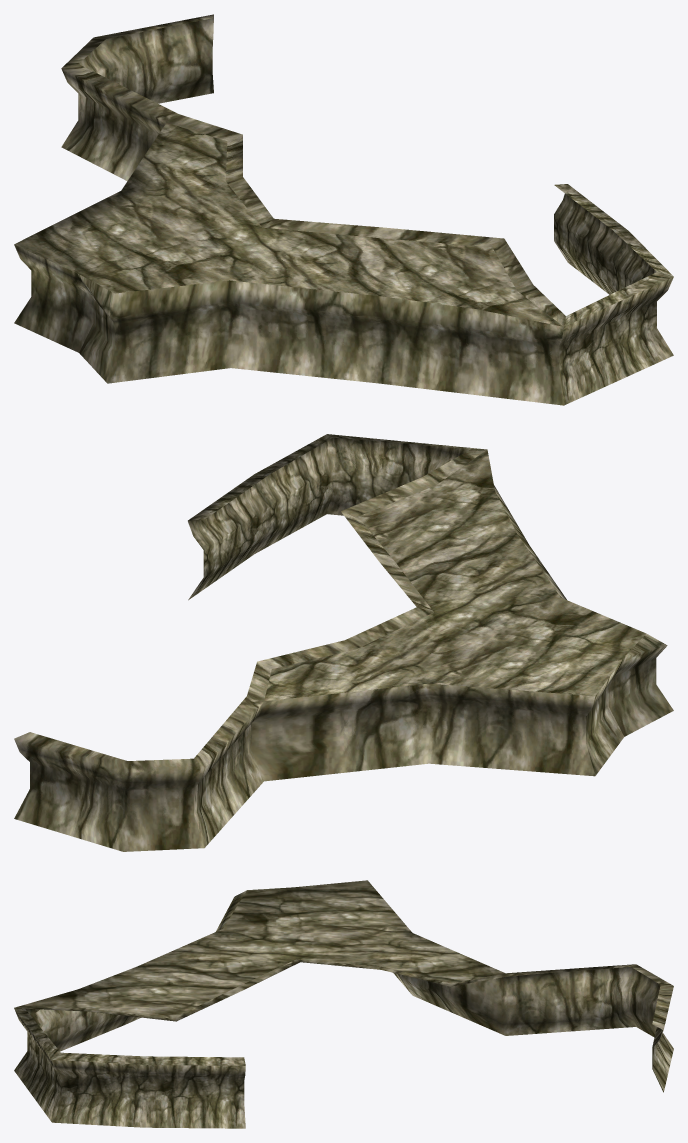
File: CB_NEWPLAYSURFACE_CB_PLAYSURFACE101.fbx
3 renders of one model, top to bottom at view 1: azimuth 30°, elevation 25°; view 2: azimuth 150°, elevation 25°; view 3: azimuth 270°, elevation 25°, orthographic. The views are drawn at different scales.
Visible parts, largest first — view 1: CB_NEWPLAYSURFACE_CB_PLAYSURFACE101; view 2: CB_NEWPLAYSURFACE_CB_PLAYSURFACE101; view 3: CB_NEWPLAYSURFACE_CB_PLAYSURFACE101.
Part boxes in pixels (x1,y1,x2,y2): CB_NEWPLAYSURFACE_CB_PLAYSURFACE101: (14,14,673,405); CB_NEWPLAYSURFACE_CB_PLAYSURFACE101: (14,434,673,851); CB_NEWPLAYSURFACE_CB_PLAYSURFACE101: (14,880,673,1128).
Size of the model in its own units: 190262 by 31307 by 285908.
2 materials, 2 textured.
